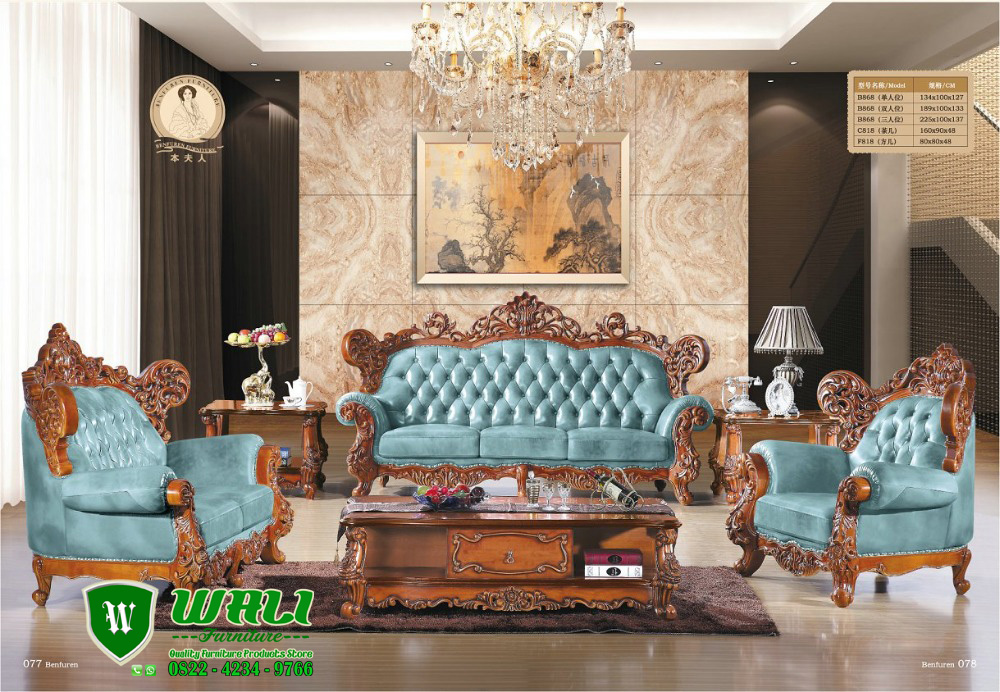Carving Chair: (327, 300, 714, 511), (14, 323, 295, 600), (730, 357, 1000, 605)
Carving Table: (329, 490, 703, 633)
